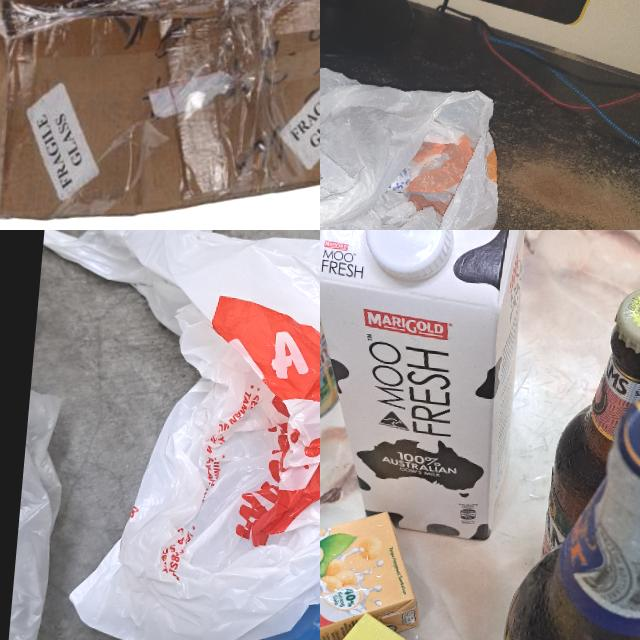caixinha: (320, 230, 536, 541), (320, 502, 426, 640)
garrafa de vidro: (487, 375, 640, 640), (541, 280, 640, 570)
lata: (320, 230, 351, 436)
papelão: (0, 0, 320, 230)
sacola plástica: (8, 230, 320, 640), (320, 47, 515, 230), (2, 377, 75, 640)
tampa plástica: (360, 230, 455, 285)
